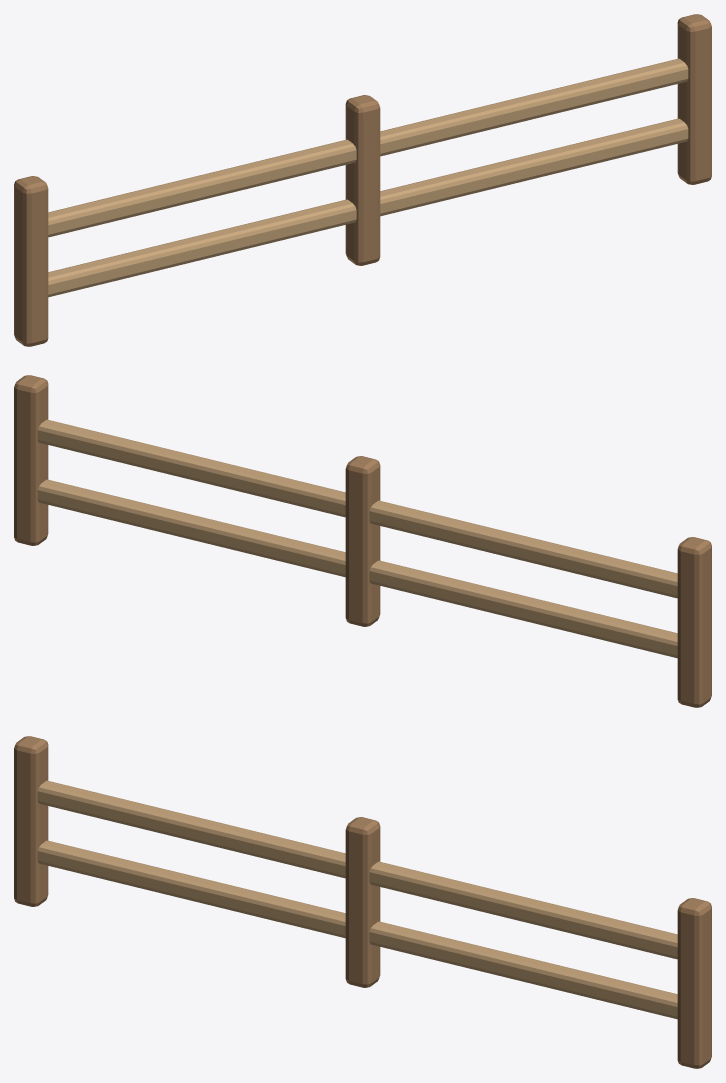
The picture shows the model from 3 angles, top to bottom: view 1: azimuth 30°, elevation 25°; view 2: azimuth 150°, elevation 25°; view 3: azimuth 330°, elevation 25°; orthographic projection.
Visible parts, largest first — view 1: LOD1_RURAL_FENCE_Rail.001, LOD1_RURAL_FENCE_Rail, LOD1_RURAL_FENCE_Post, LOD1_RURAL_FENCE_Post.001, LOD1_RURAL_FENCE_Post.002; view 2: LOD1_RURAL_FENCE_Rail.001, LOD1_RURAL_FENCE_Rail, LOD1_RURAL_FENCE_Post, LOD1_RURAL_FENCE_Post.001, LOD1_RURAL_FENCE_Post.002; view 3: LOD1_RURAL_FENCE_Rail.001, LOD1_RURAL_FENCE_Rail, LOD1_RURAL_FENCE_Post.002, LOD1_RURAL_FENCE_Post.001, LOD1_RURAL_FENCE_Post.
Boxes of the visible parts, box(x1,y1,x2,y2) form: LOD1_RURAL_FENCE_Rail.001: box(48, 58, 688, 237); LOD1_RURAL_FENCE_Rail: box(48, 118, 688, 297); LOD1_RURAL_FENCE_Post: box(14, 176, 48, 346); LOD1_RURAL_FENCE_Post.001: box(345, 95, 380, 265); LOD1_RURAL_FENCE_Post.002: box(677, 14, 711, 184); LOD1_RURAL_FENCE_Rail.001: box(37, 419, 677, 598); LOD1_RURAL_FENCE_Rail: box(37, 479, 677, 658); LOD1_RURAL_FENCE_Post: box(677, 537, 711, 707); LOD1_RURAL_FENCE_Post.001: box(345, 456, 380, 626); LOD1_RURAL_FENCE_Post.002: box(14, 375, 48, 545); LOD1_RURAL_FENCE_Rail.001: box(37, 780, 677, 959); LOD1_RURAL_FENCE_Rail: box(37, 840, 677, 1019); LOD1_RURAL_FENCE_Post.002: box(677, 898, 711, 1068); LOD1_RURAL_FENCE_Post.001: box(345, 817, 380, 987); LOD1_RURAL_FENCE_Post: box(14, 736, 48, 906).
Size of what is drawn, in the model's own units: 6.02 by 1.35 by 0.22.
